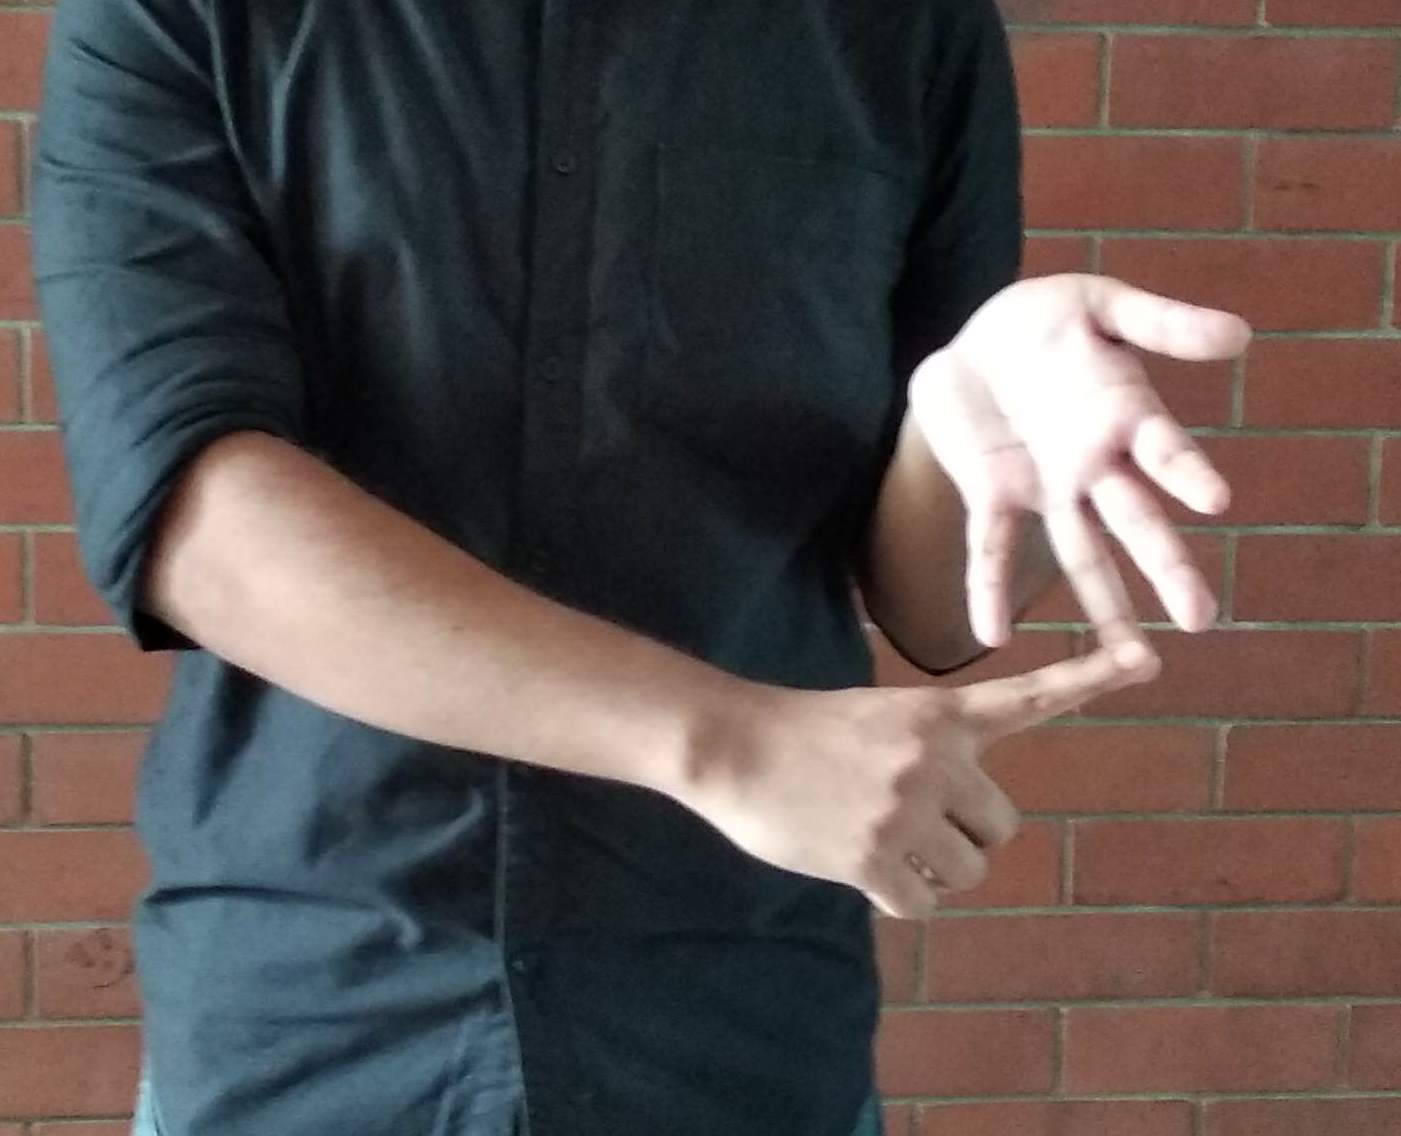e: (813, 263, 1235, 918)
